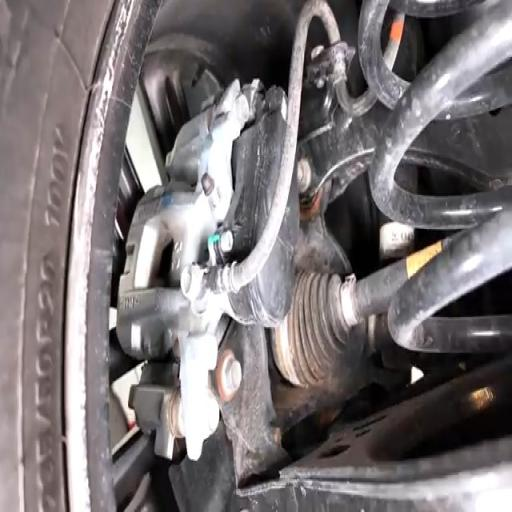tire: (0, 0, 159, 511)
